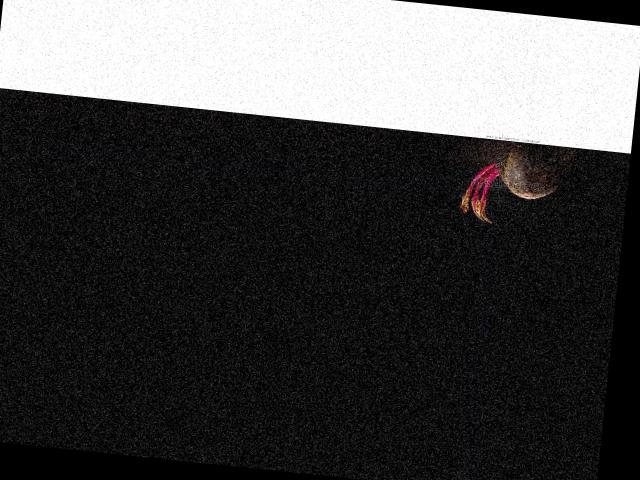beet: (459, 136, 579, 231)
